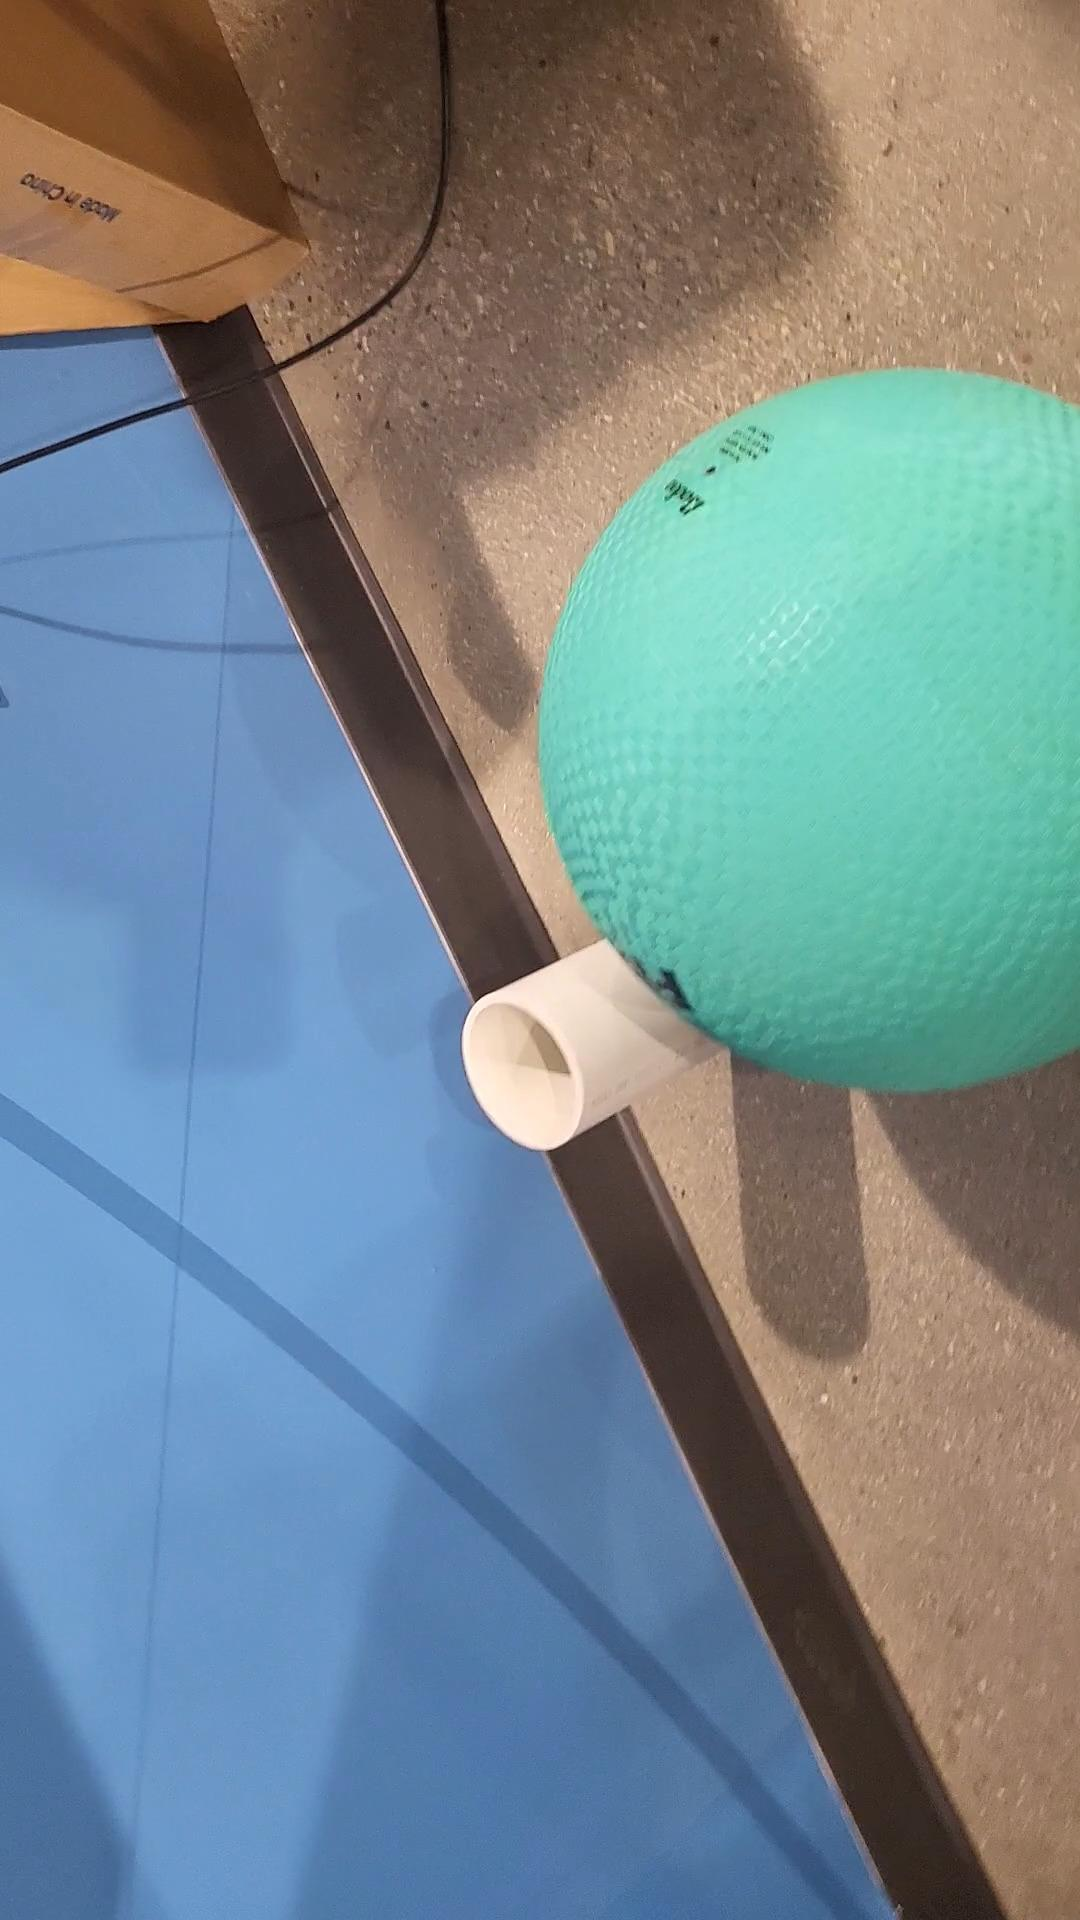algae: (538, 380, 1080, 1091), (460, 938, 742, 1145)
